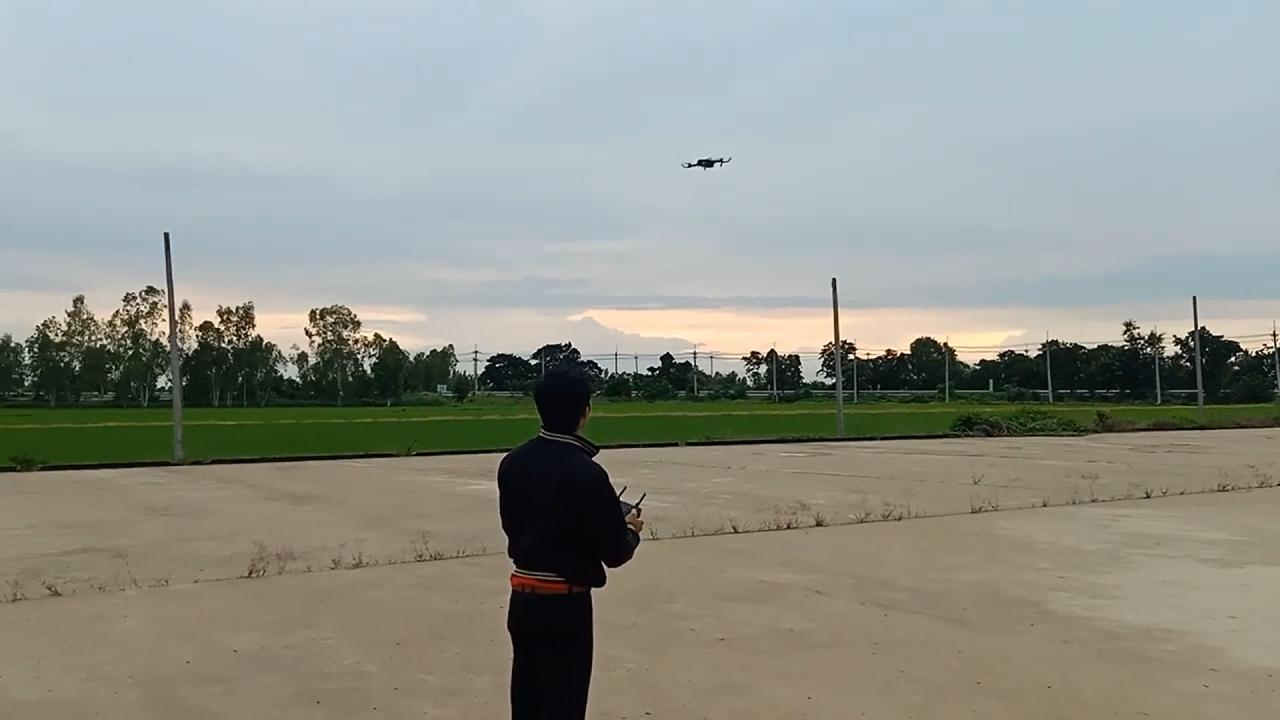Drone: (670, 146, 739, 181)
